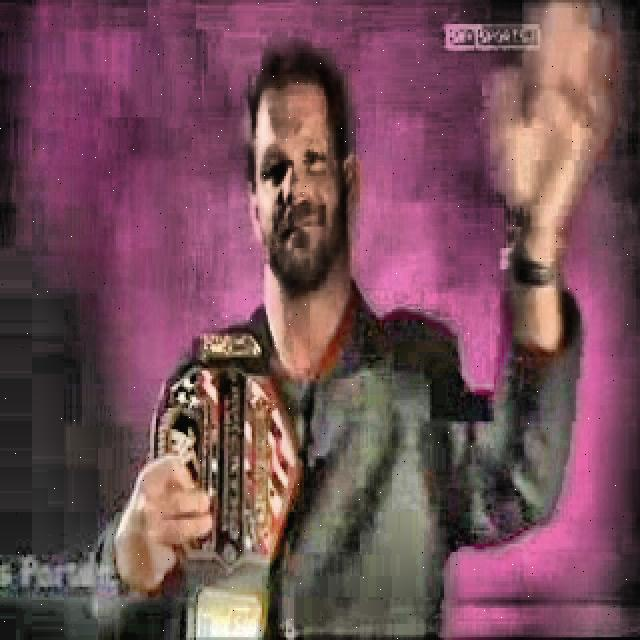L: (93, 0, 605, 640)
